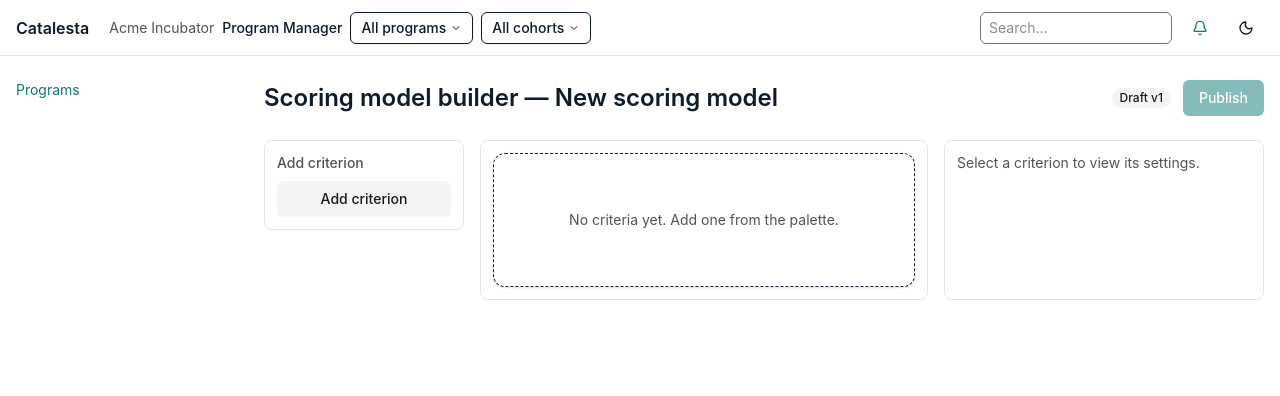
Test: editing max_points in inspector updates the canvas badge
Check: the element showing "No criteria yet. Add one from the palette." is shown, box [480, 140, 928, 300]
Click the button "Add criterion" at [364, 199], box [277, 181, 451, 217]
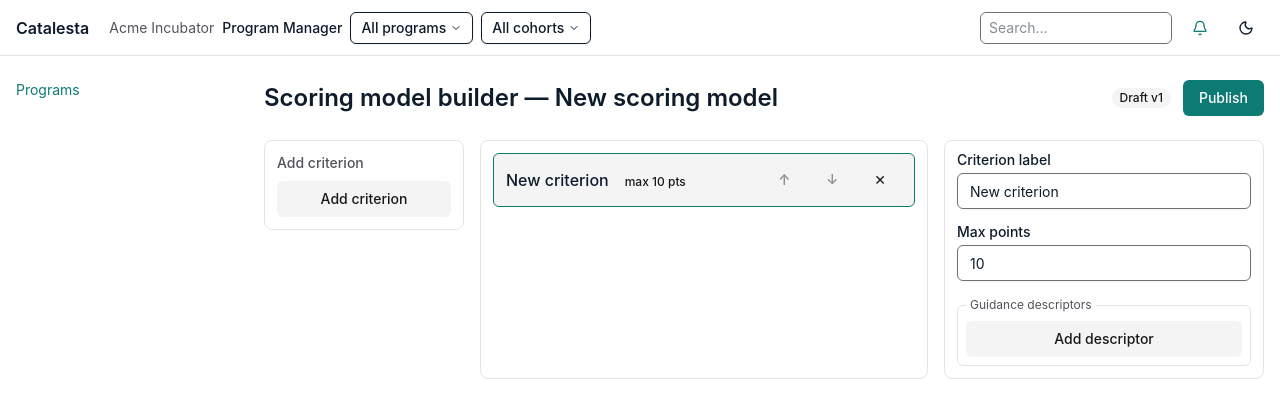
Replace the text in the number field labelled "Max points" with "25" at [1104, 263], box [957, 245, 1251, 281]
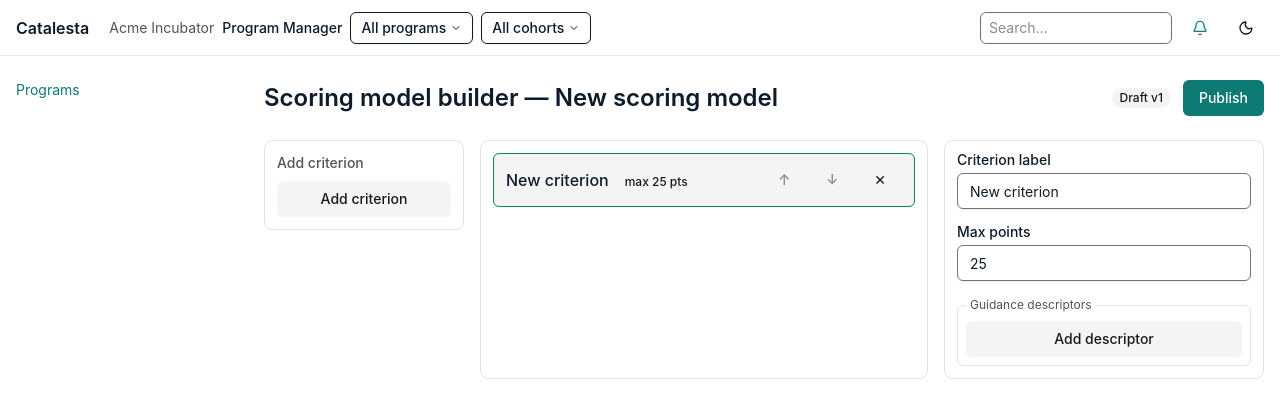
Check: the list item shows "max 25 pts", box [493, 153, 915, 207]
